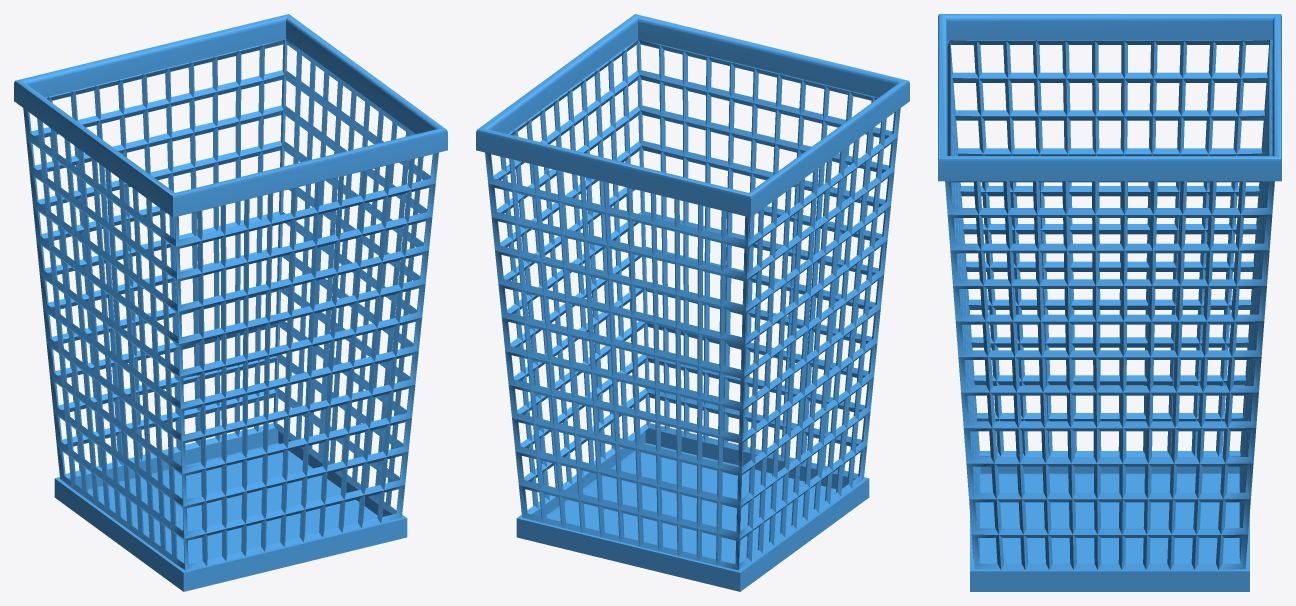
The picture shows the model from 3 angles, left to right: view 1: azimuth 30°, elevation 25°; view 2: azimuth 150°, elevation 25°; view 3: azimuth 270°, elevation 25°; orthographic projection. The views are drawn at different scales.
Visible parts, largest first — view 1: Cube_0; view 2: Cube_0; view 3: Cube_0.
Boxes of the visible parts, x1=… form: Cube_0: x1=14, y1=14, x2=447, y2=591; Cube_0: x1=476, y1=14, x2=909, y2=591; Cube_0: x1=938, y1=14, x2=1281, y2=591.
Bounding box in the file's own units: 258 × 371 × 258.
